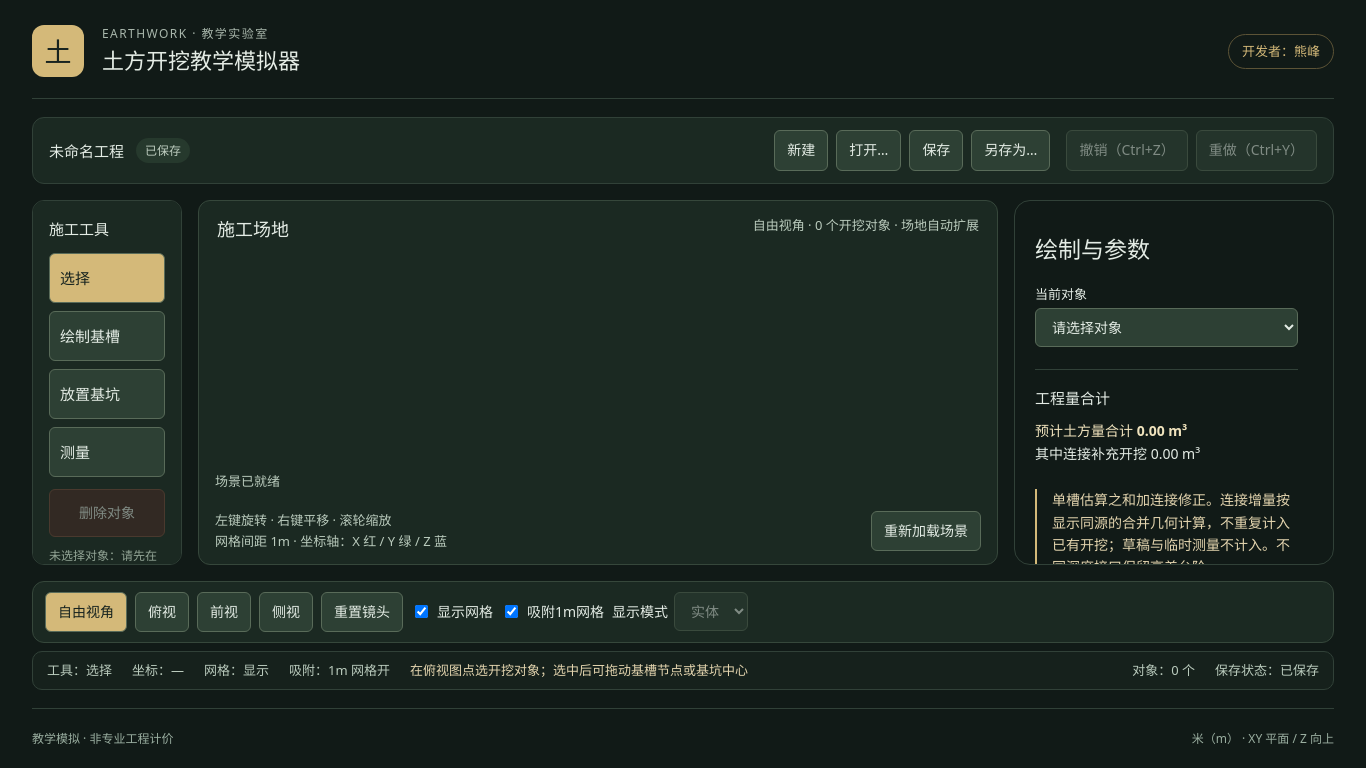
Test: M5 俯视绘制与放置 › 角度 -90 与 450 正规化后得到同一下一点
Click the button "绘制基槽".
click(107, 336)  # box 49,311 -> 165,361
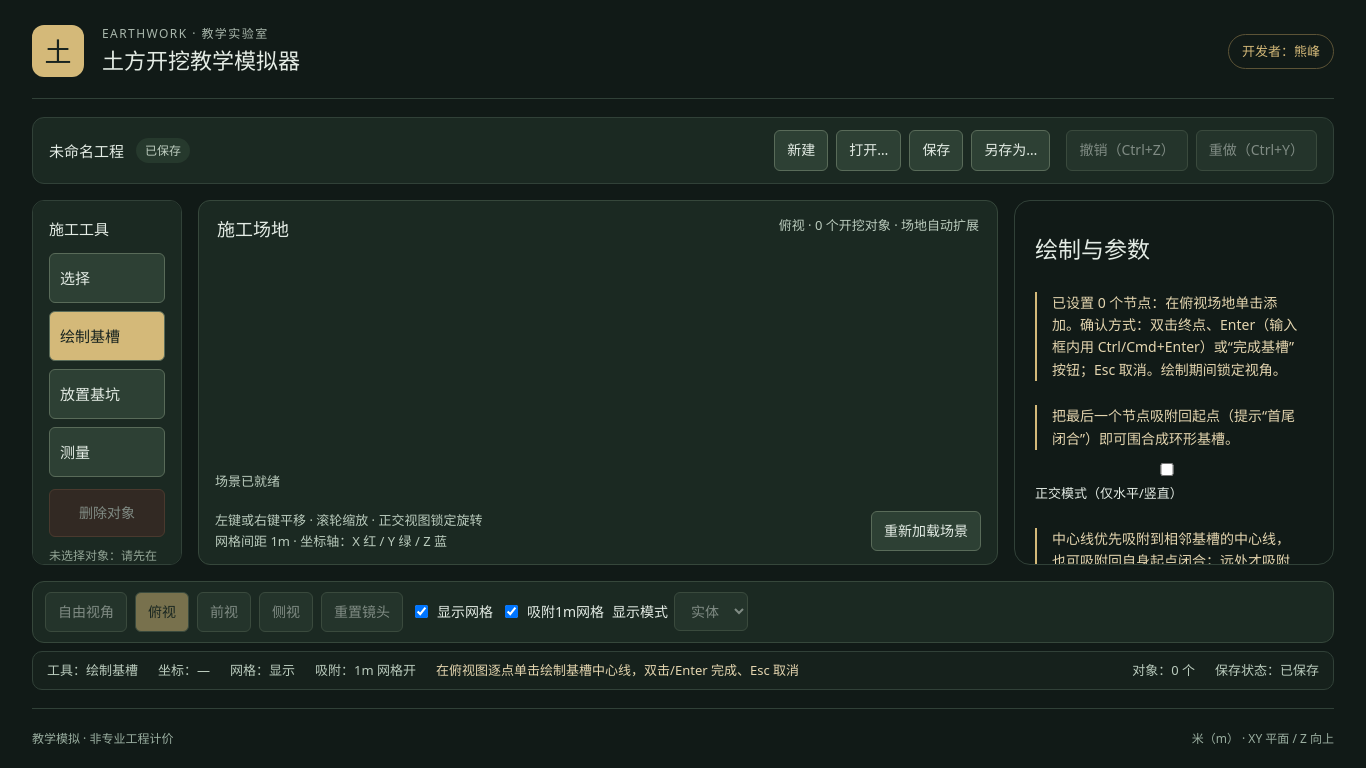
Click the picture named "三维施工场地".
click(598, 361)  # box 199,258 -> 997,465
(page scrolled)
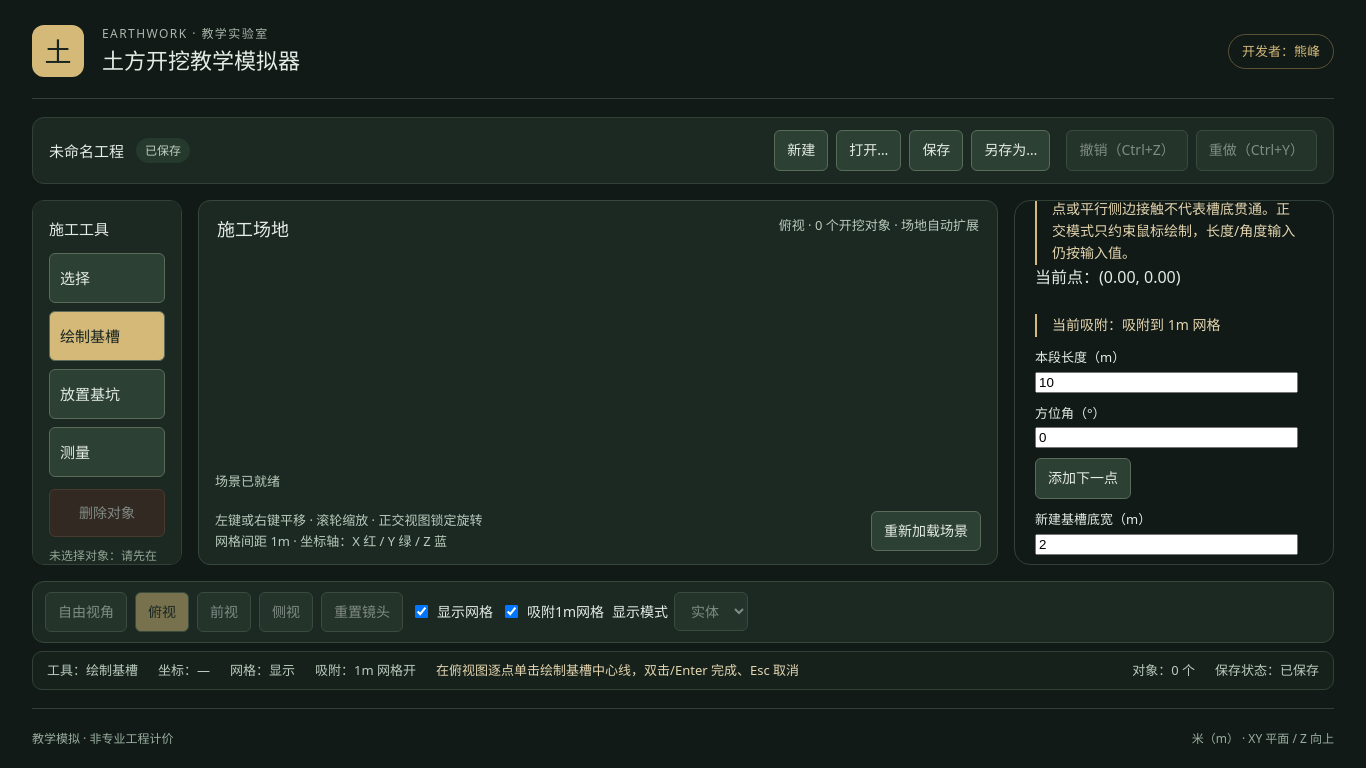
Replace the text in the field labelled "本段长度（m）" with "12.5" at [1166, 382], box 1035,372 -> 1298,393
Replace the text in the field labelled "方位角（°）" with "-90" at [1166, 438], box 1035,427 -> 1298,448
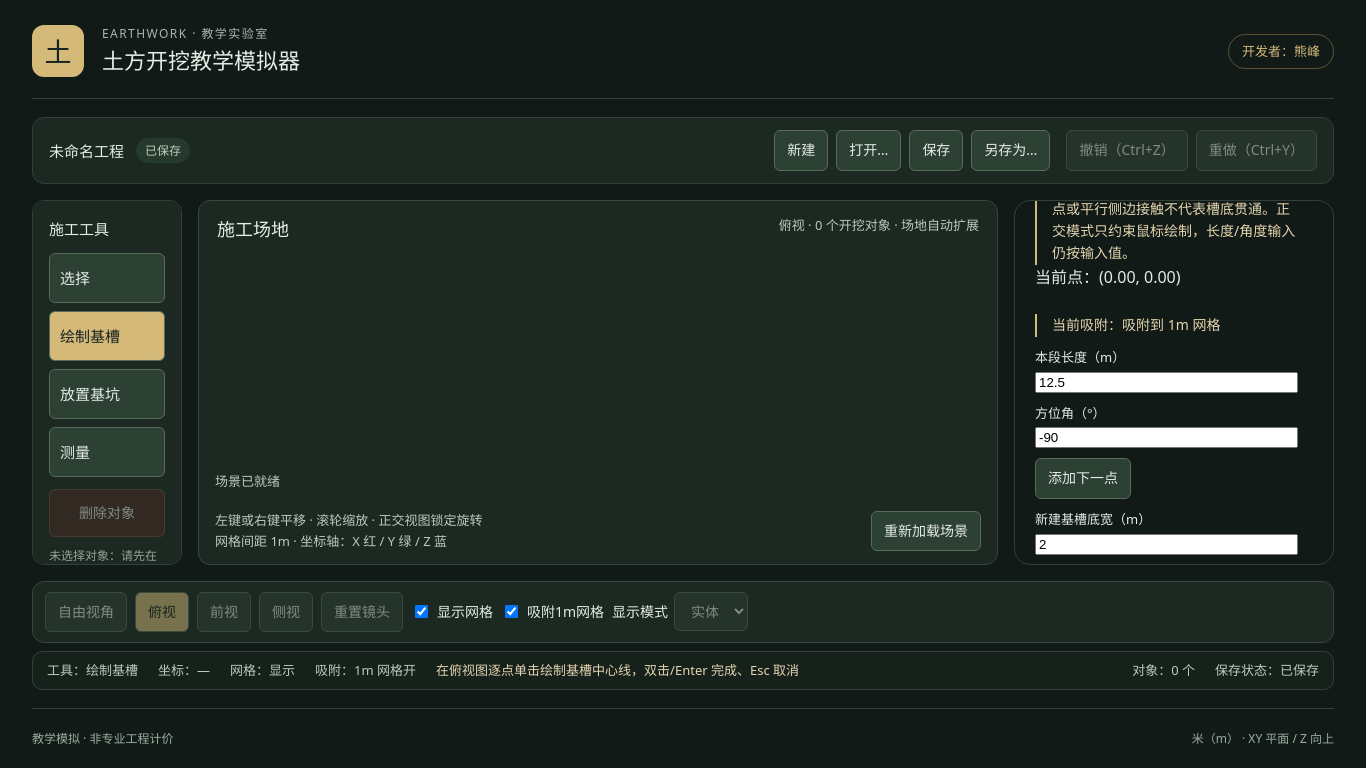
Click the button "添加下一点".
click(1083, 479)  # box 1035,458 -> 1131,499
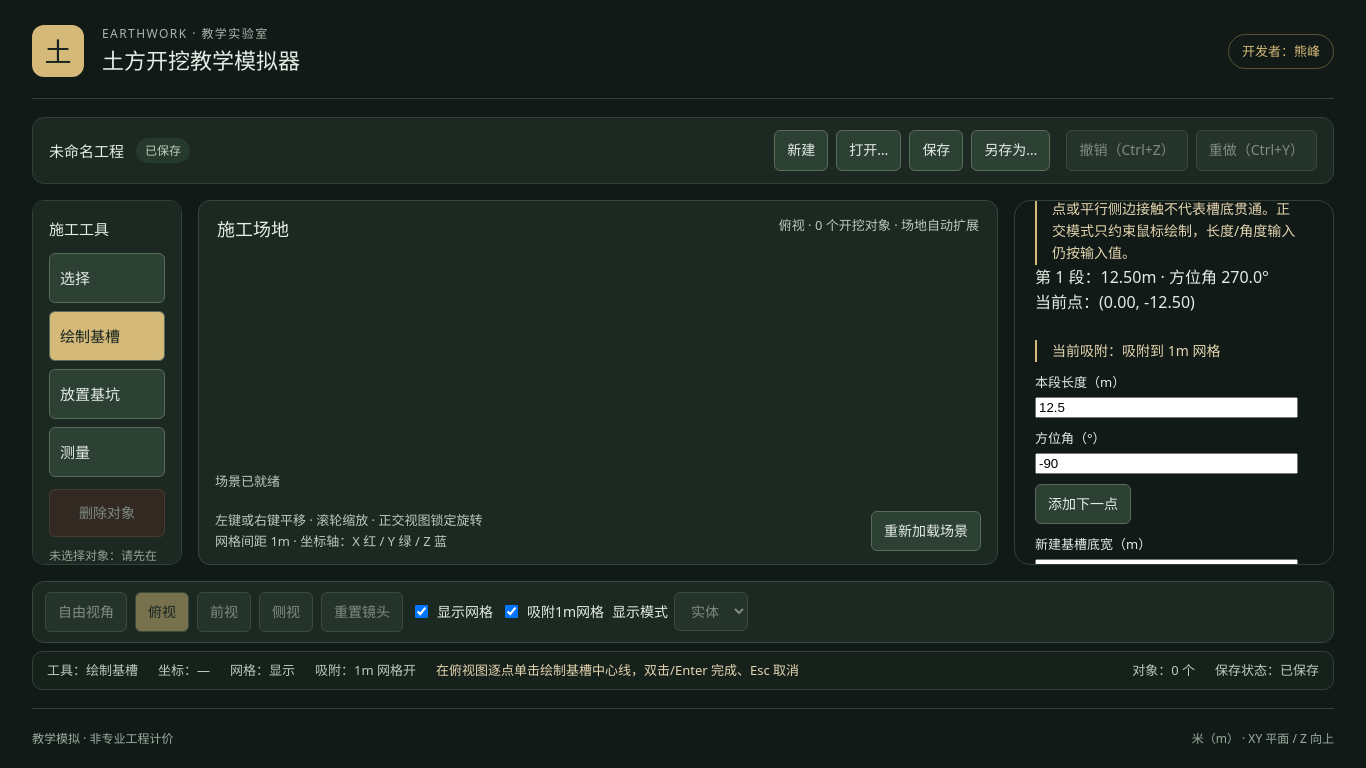
Replace the text in the field labelled "方位角（°）" with "450" at [1166, 464], box 1035,453 -> 1298,474
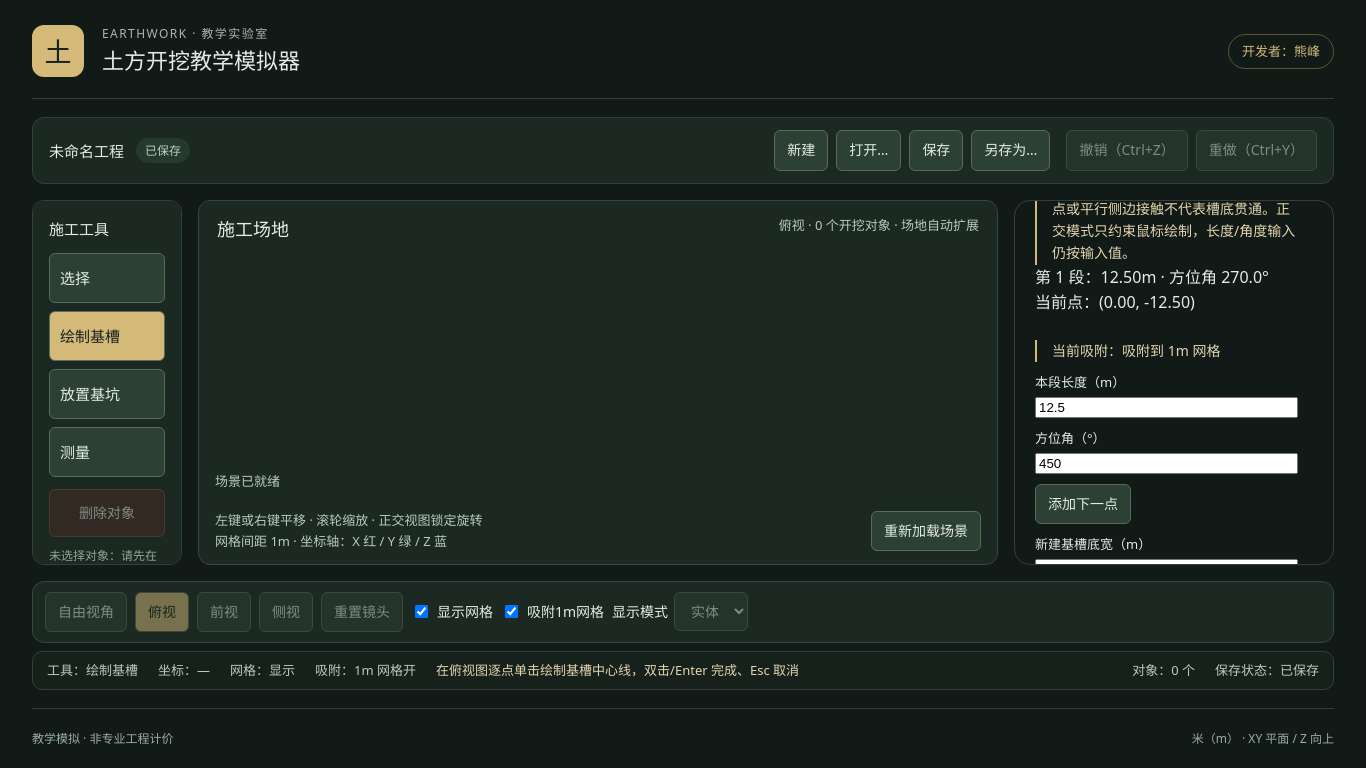
Click the button "添加下一点".
click(1083, 504)  # box 1035,484 -> 1131,524
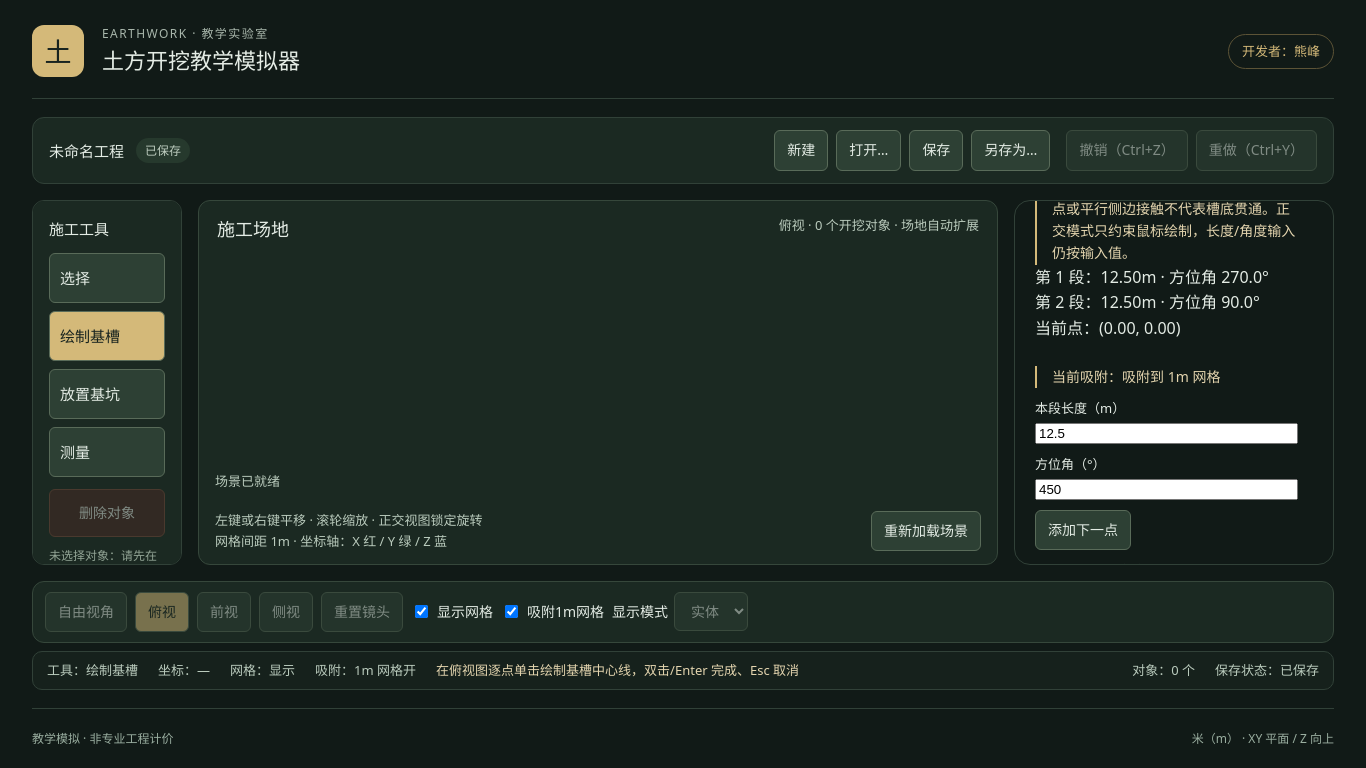
Expected: the text "第 1 段：12.50m · 方位角 270.0°" is shown, 1035,265 -> 1298,290
Expected: the text "第 2 段：12.50m · 方位角 90.0°" is shown, 1035,290 -> 1298,316
